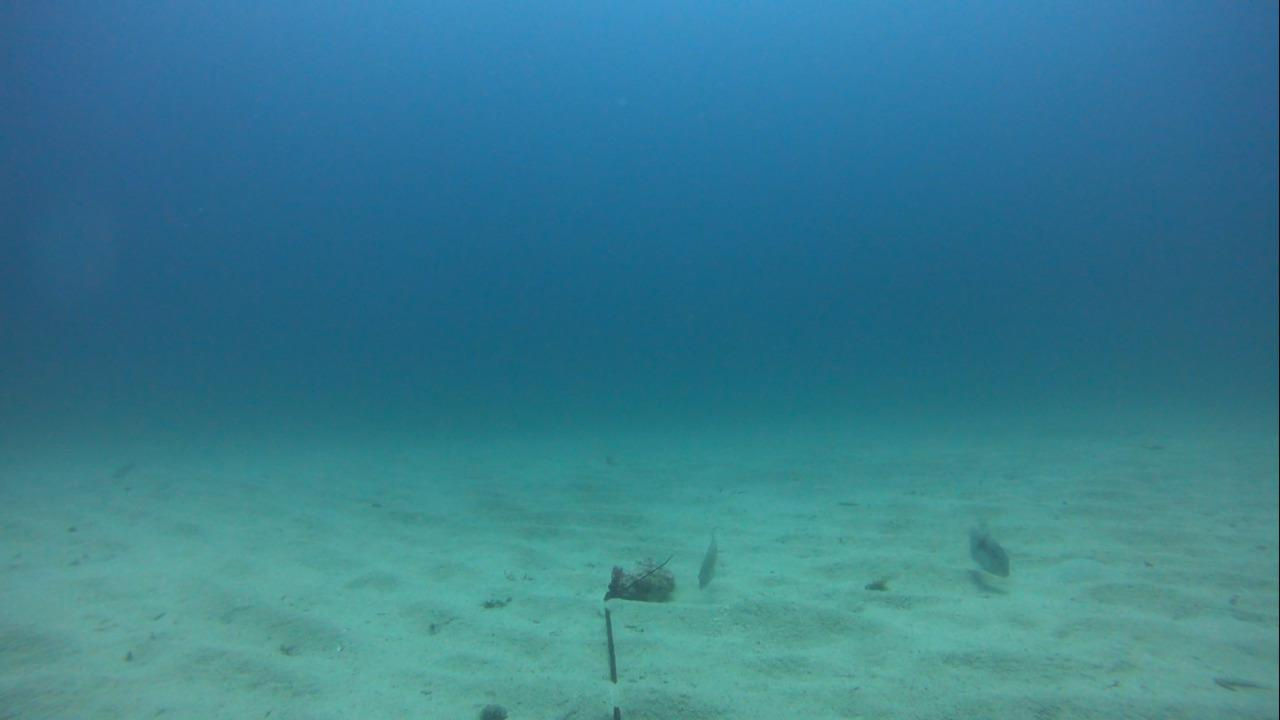raor: (960, 518, 1019, 576), (688, 527, 724, 598)
